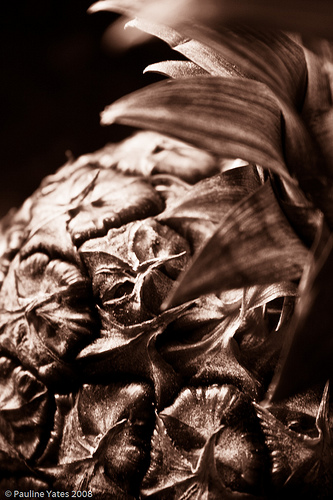pineapple: (0, 0, 331, 498)
